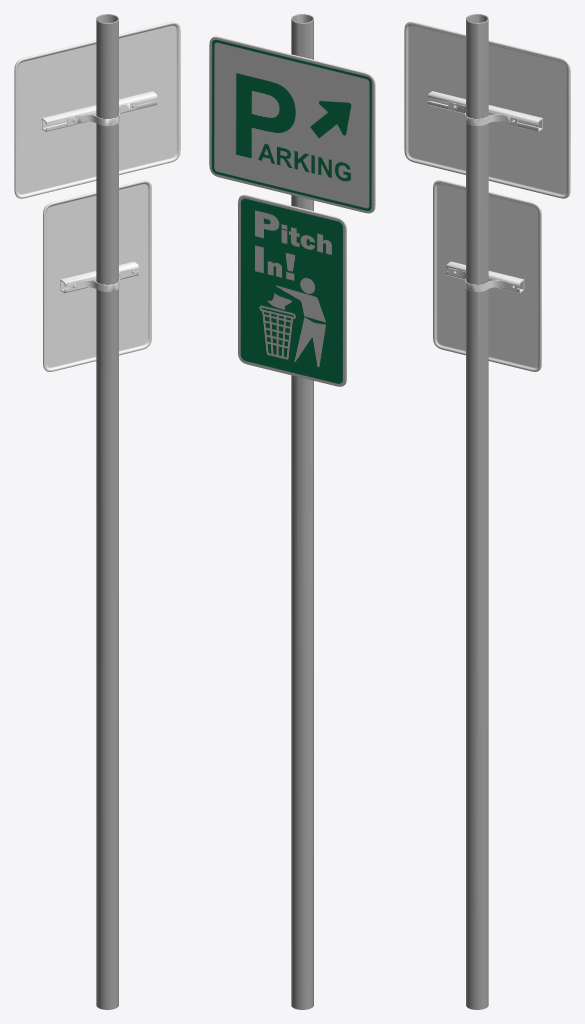
The model's file is o3_segnale_09.glb.
3 views of the same model, side by side, from view 1: azimuth 30°, elevation 25°; view 2: azimuth 150°, elevation 25°; view 3: azimuth 330°, elevation 25° (orthographic).
Visible parts, largest first — view 1: sb_modello; view 2: sb_modello; view 3: sb_modello.
Part boxes in pixels (left/top/right/bottom): sb_modello: left=14, top=14, right=180, bottom=1009; sb_modello: left=209, top=14, right=375, bottom=1009; sb_modello: left=404, top=14, right=570, bottom=1009.
Size of the model in its own units: 0.5056 by 2.88 by 0.0893.
6 materials, 2 textured.
